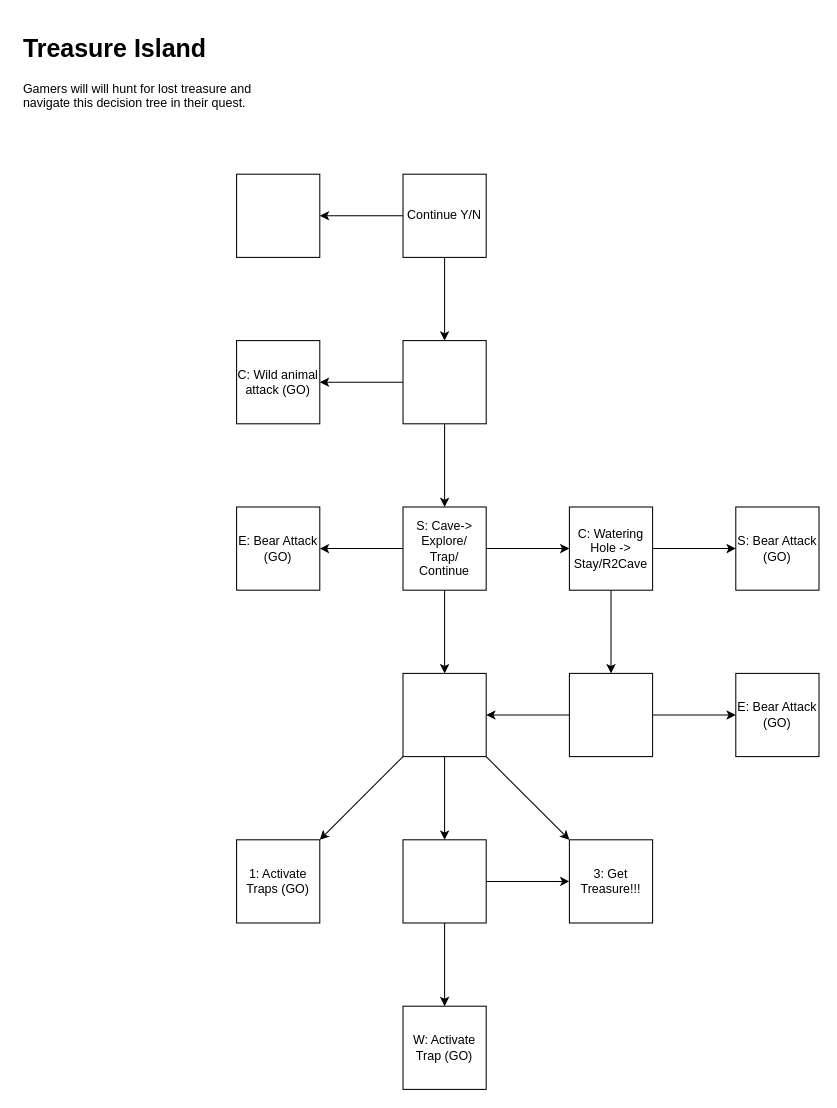
This 837x1108 diagram has some shape labels left out. The shapes that lost their labels are listed below. From the top down, each one's centre as x and y in pixels, then its label:
pixel 278 215: N: Game Over (GO)
pixel 444 382: Y: Camp/Scout
pixel 444 714: T: Kill Bear Enter Cave 3 Paths Riddle -> 1, 2, 3
pixel 610 714: R2C: Explore/ Trap/
pixel 444 881: 2: Another Riddle: Correct/ Wrong
